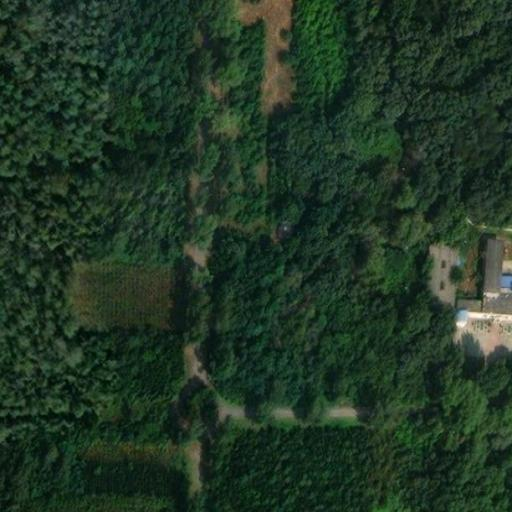building: (483, 231, 512, 305), (454, 289, 484, 317)
